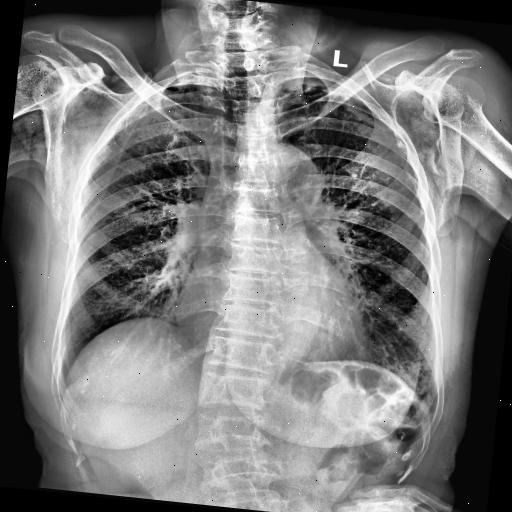0- Aortic enlargement: (232, 140, 328, 224), (253, 140, 332, 213), (248, 140, 327, 204)
11- Pleural thickening: (275, 70, 362, 98), (271, 72, 363, 98), (276, 72, 336, 92), (173, 80, 216, 94)
13- Pulmonary fibrosis: (342, 107, 408, 149)
3- Cardiomegaly: (167, 284, 377, 362), (172, 288, 374, 369)
